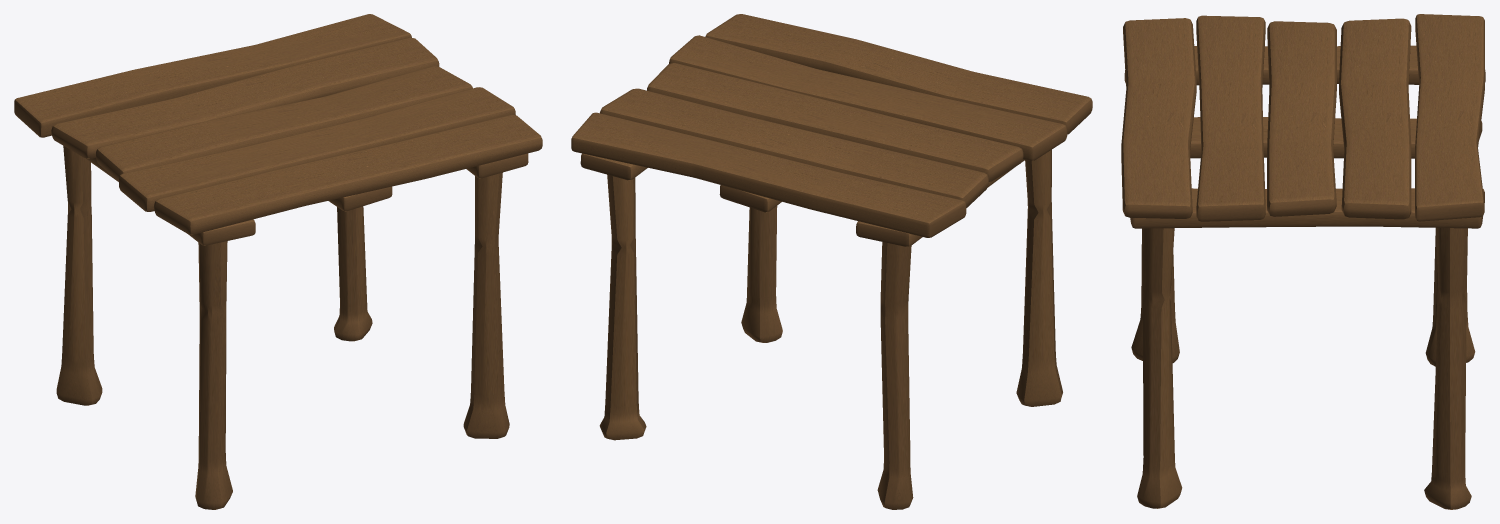
Rendered from Old wooden table.obj.
The picture shows the model from 3 angles, left to right: view 1: azimuth 30°, elevation 25°; view 2: azimuth 150°, elevation 25°; view 3: azimuth 270°, elevation 25°; orthographic projection. The views are drawn at different scales.
Parts seen in each view (by area): view 1: Old_wooden_table1; view 2: Old_wooden_table1; view 3: Old_wooden_table1.
Part boxes in pixels (box(x1,y1,x2,y2)): Old_wooden_table1: box(14, 14, 542, 509); Old_wooden_table1: box(571, 14, 1092, 509); Old_wooden_table1: box(1121, 14, 1485, 509).
Size of the model in its own units: 11.06 by 8.62 by 8.82.
Materials: 1 (1 with a texture image).
